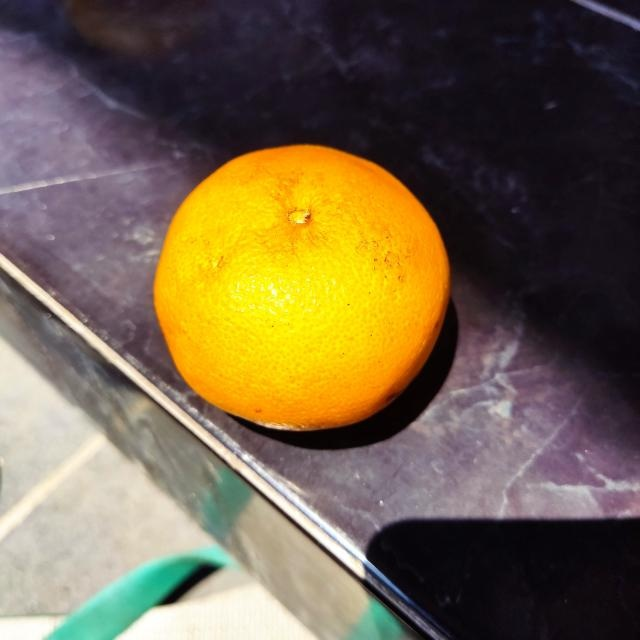agrume: (150, 146, 454, 430)
